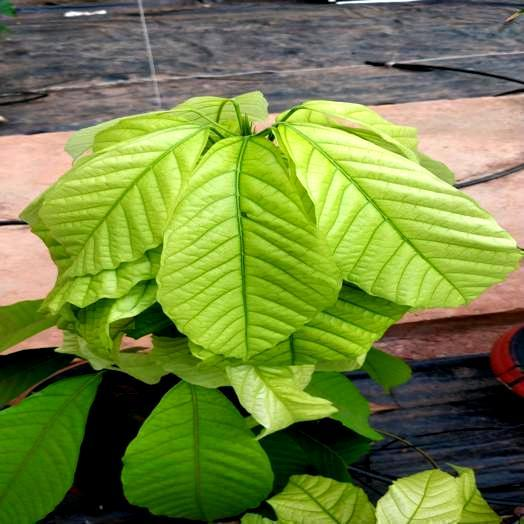Healthy Leaf: (122, 381, 273, 521), (0, 375, 100, 523), (307, 372, 380, 438), (362, 348, 410, 392)
Iron: (277, 121, 516, 306), (158, 138, 341, 359), (41, 125, 207, 275), (22, 190, 160, 313), (253, 285, 406, 369), (226, 365, 336, 438), (73, 282, 155, 368), (268, 476, 374, 523), (377, 469, 461, 523), (150, 337, 228, 386), (0, 299, 55, 351), (453, 466, 500, 523), (102, 351, 167, 383), (73, 349, 94, 362)
